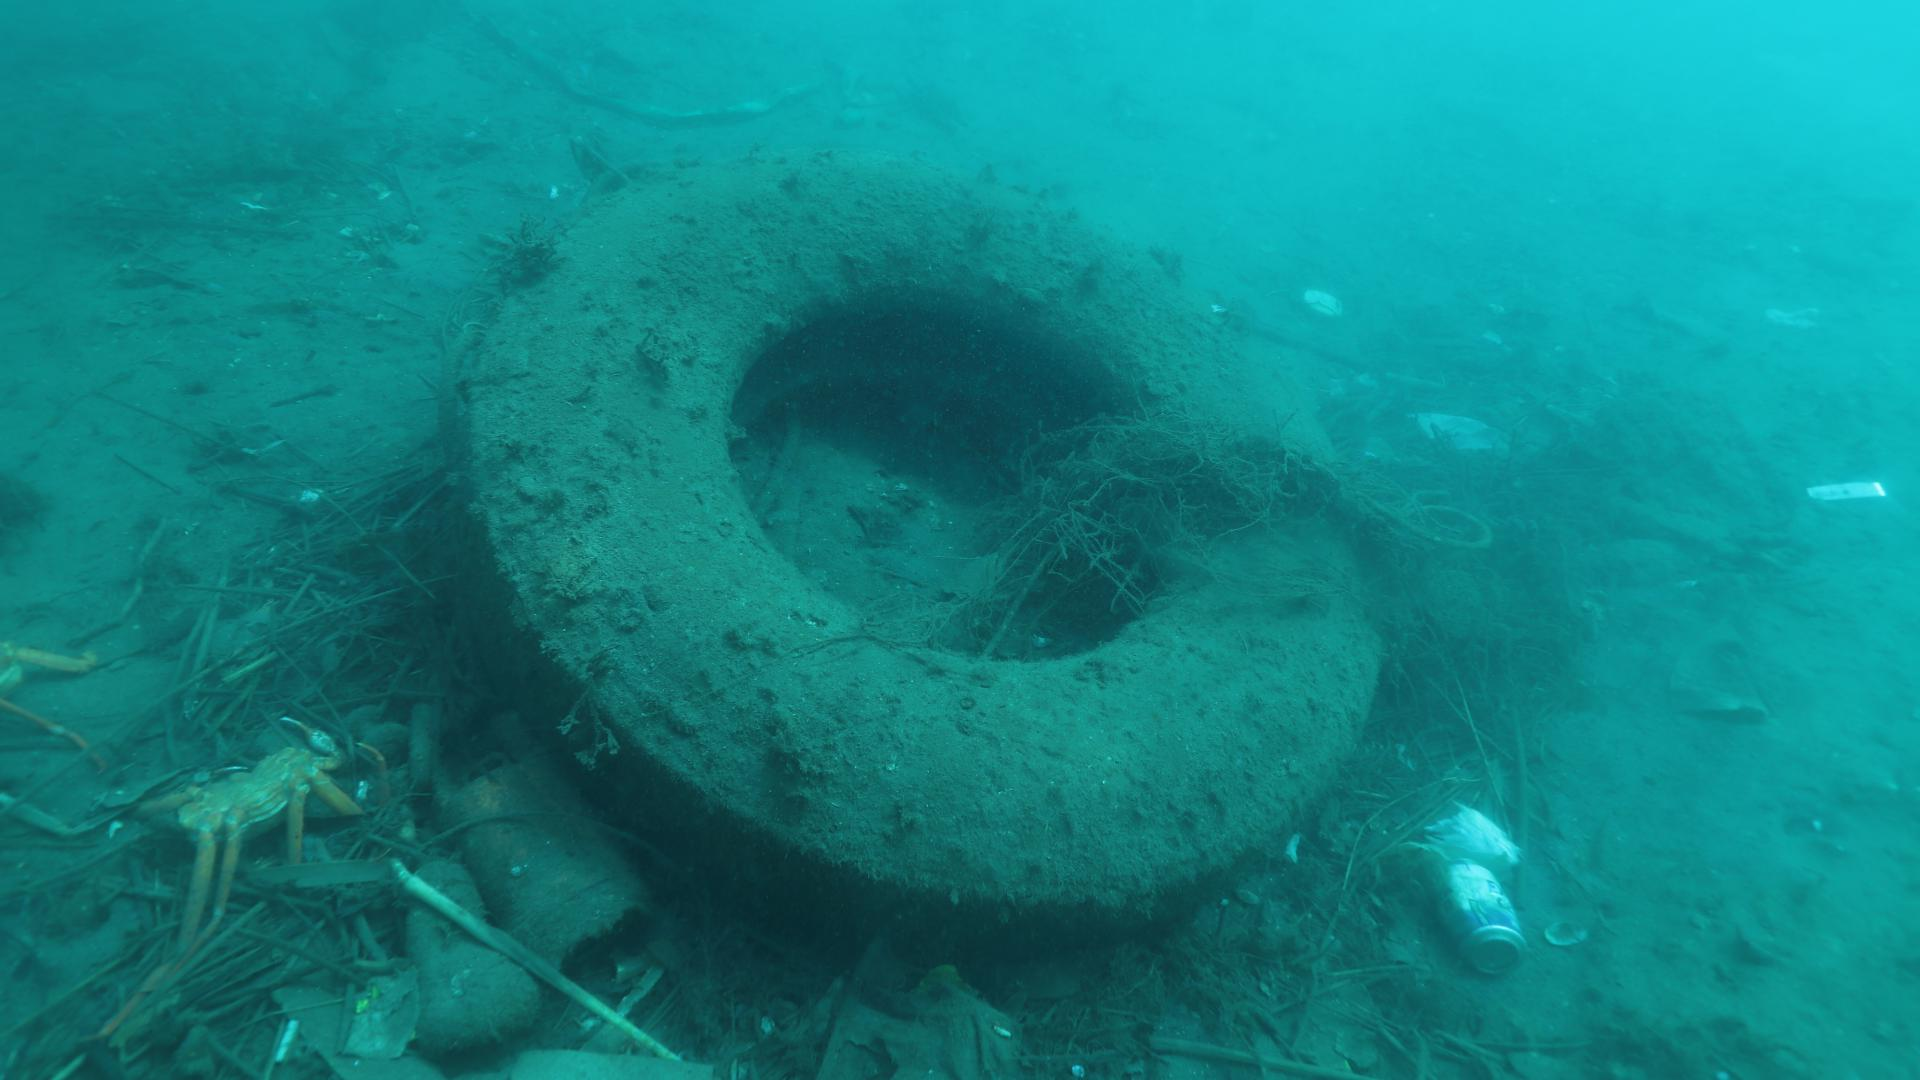tire: (435, 145, 1381, 963)
